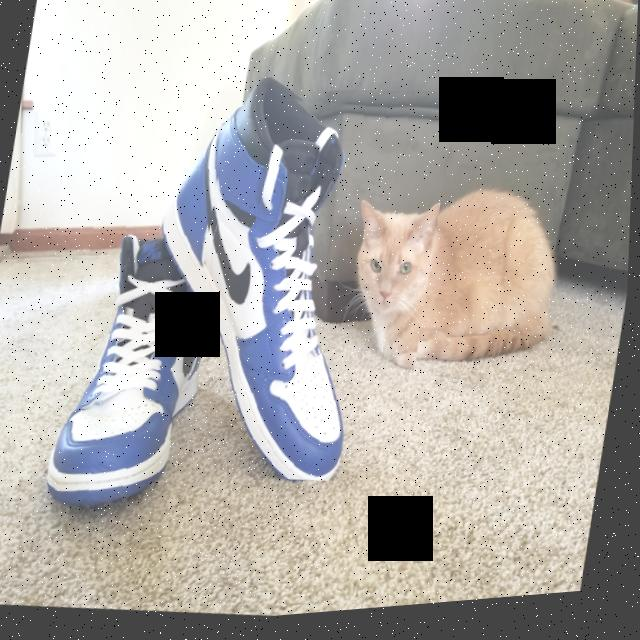shoe: (118, 74, 458, 509), (0, 113, 227, 564)
